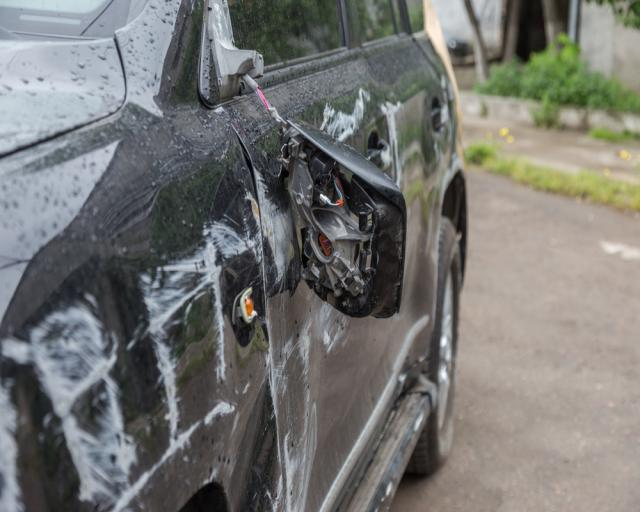scratch: (0, 185, 288, 512), (254, 166, 355, 512), (320, 90, 371, 142)
